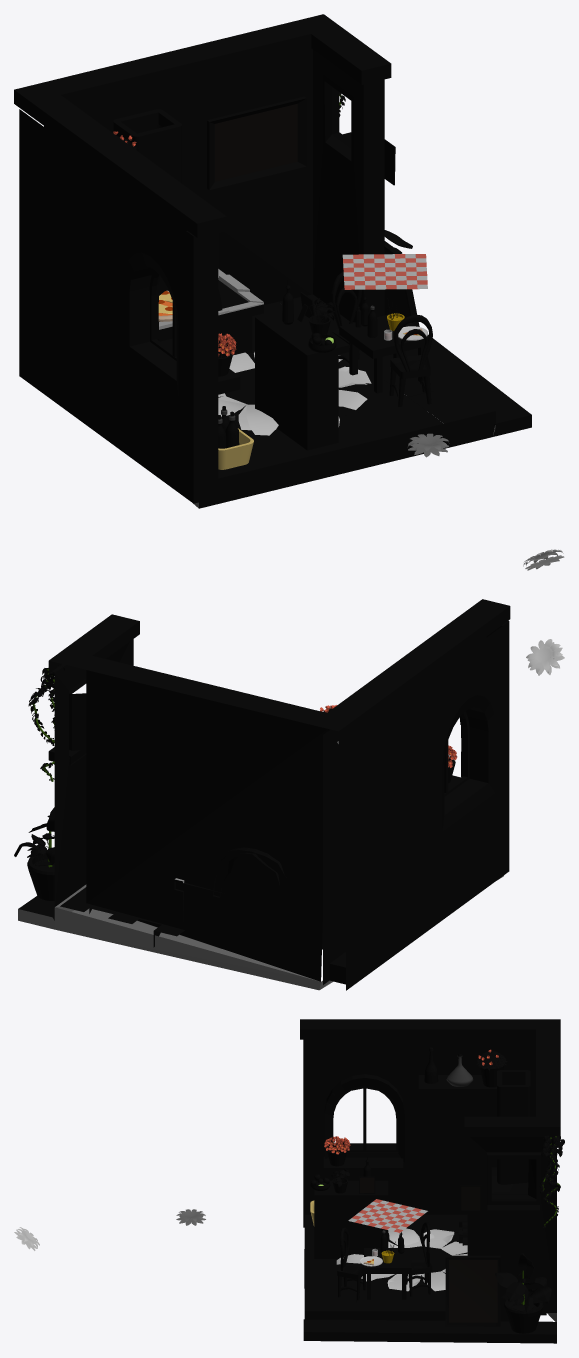
The picture shows the model from 3 angles, top to bottom: view 1: azimuth 30°, elevation 25°; view 2: azimuth 150°, elevation 25°; view 3: azimuth 270°, elevation 25°; orthographic projection. The views are drawn at different scales.
Visible parts, largest first — view 1: Room_Base, ArchwayWall, Counter (×2), PictureFrame_WB, Pizza_Oven, pPlane4, pCylinder12, TableTop, Wood_FloorPlank11, Wood_FloorPlank70, Wood_FloorPlank23, Wood_FloorPlank22 (+10 smaller); view 2: Room_Base, ArchwayWall, PlantPot_Porch, WindowFrame, pCylinder11, Pizza_Oven; view 3: Room_Base, ArchwayWall, Counter, Porch_Menu, Pizza_Oven, pPlane4, Window_Sill_Inside, Shelf_Wall, pCylinder11, pCylinder12, WindowFrame, Wood_FloorPlank101 (+10 smaller).
Part boxes in pixels (x1,y1,x2,y2): Room_Base: (14,14,531,508); ArchwayWall: (19,109,218,503); Counter (×2): (159,269,349,450); PictureFrame_WB: (207,96,306,190); Pizza_Oven: (113,109,222,310); pPlane4: (342,254,427,289); pCylinder12: (218,352,367,435); TableTop: (339,312,428,358); Wood_FloorPlank11: (408,391,469,439); Wood_FloorPlank70: (437,387,495,434); Wood_FloorPlank23: (339,412,394,458); Wood_FloorPlank22: (357,403,418,453); Room_Base: (18,599,510,990); ArchwayWall: (323,620,509,990); PlantPot_Porch: (27,854,54,900); WindowFrame: (444,711,469,796); pCylinder11: (526,639,562,672); Pizza_Oven: (212,847,286,897); Room_Base: (300,1019,560,1343); ArchwayWall: (303,1039,535,1227); Counter: (314,1180,388,1258); Porch_Menu: (445,1255,500,1326); Pizza_Oven: (491,1070,530,1194); pPlane4: (348,1199,427,1232); Window_Sill_Inside: (323,1156,403,1176); Shelf_Wall: (418,1075,496,1097); pCylinder11: (353,1229,467,1291); pCylinder12: (336,1228,467,1291); WindowFrame: (331,1086,398,1152); Wood_FloorPlank101: (351,1302,402,1320).
Bounding box in the file's own units: 8.57 × 6.81 × 15.8.
